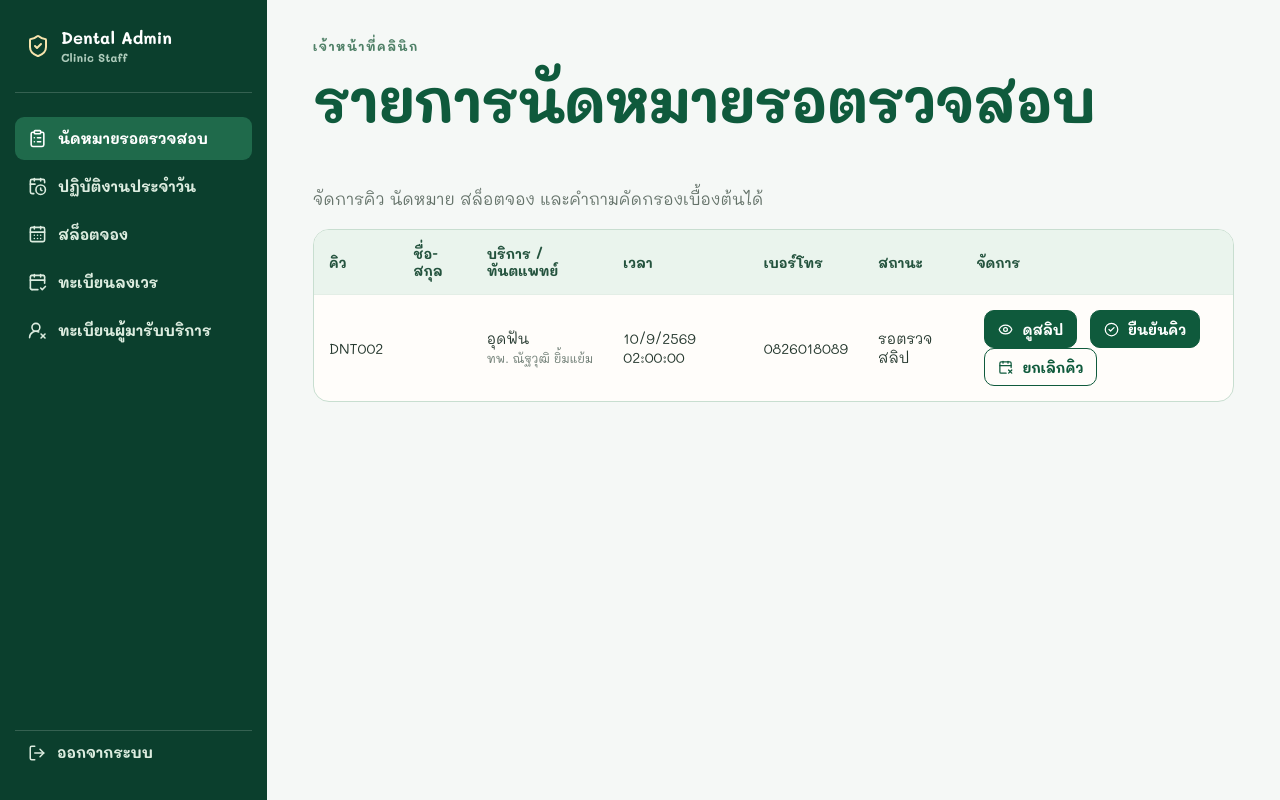
Scenario: clinic SPA › shows a failed slip preview as an error toast without hiding the appointment table
Click the button "ดูสลิป".
click(1031, 329)  # box 984,310 -> 1077,348
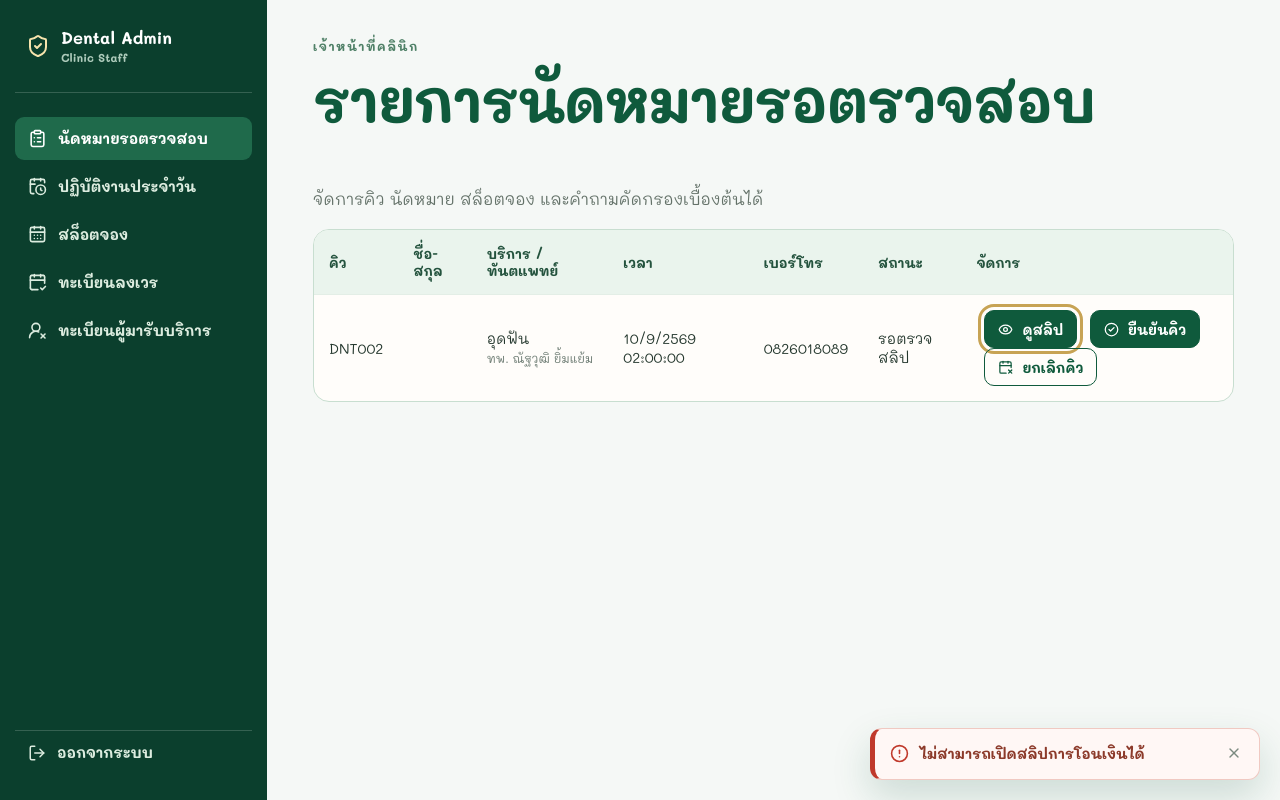
Expected: the text "DNT002" is shown, 314,295 -> 398,401
Now the message reads "ไม่สามารถเปิดสลิปการโอนเงินได้", box 920,744 -> 1144,763
Now the element showing "ไม่สามารถเปิดสลิปการโอนเงินได้" is shown, box 870,728 -> 1260,780
